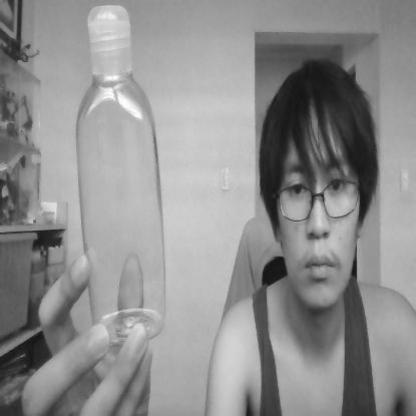Plastic Bottle: (74, 1, 173, 339)
